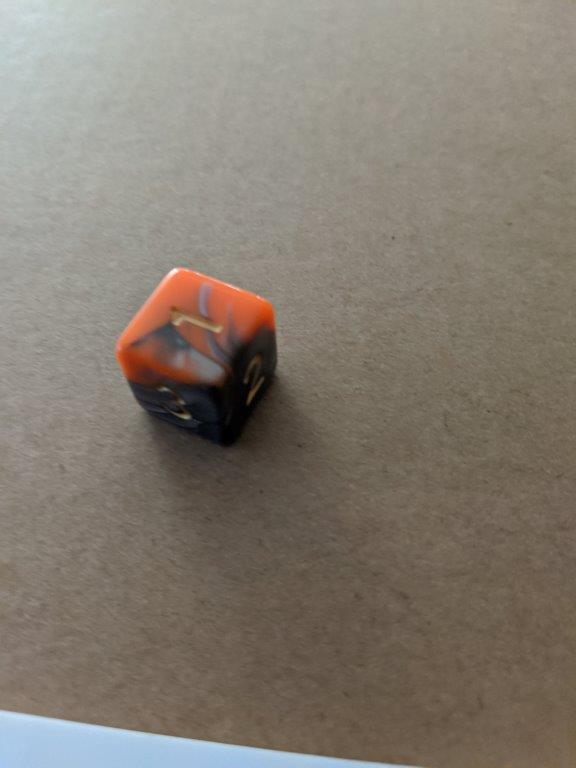d6-1: (113, 263, 276, 451)
